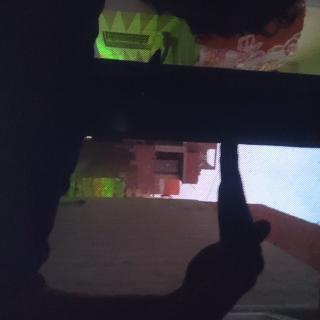KHAA: (102, 58, 240, 191)
